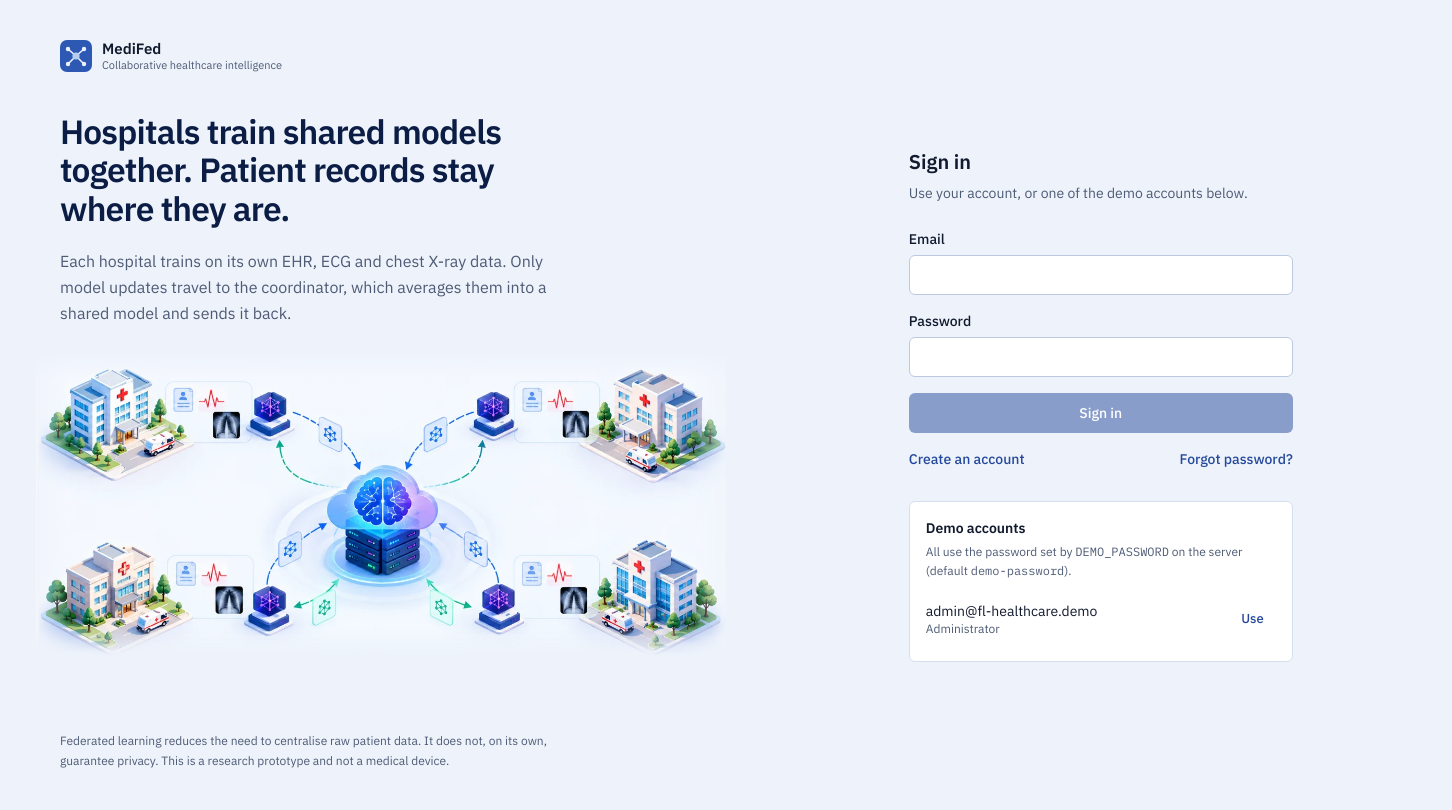
Test: creating an account › shows why the server refused, and stays on the form
Click the button "Create an account" at (967,459), box [909,449,1025,469]
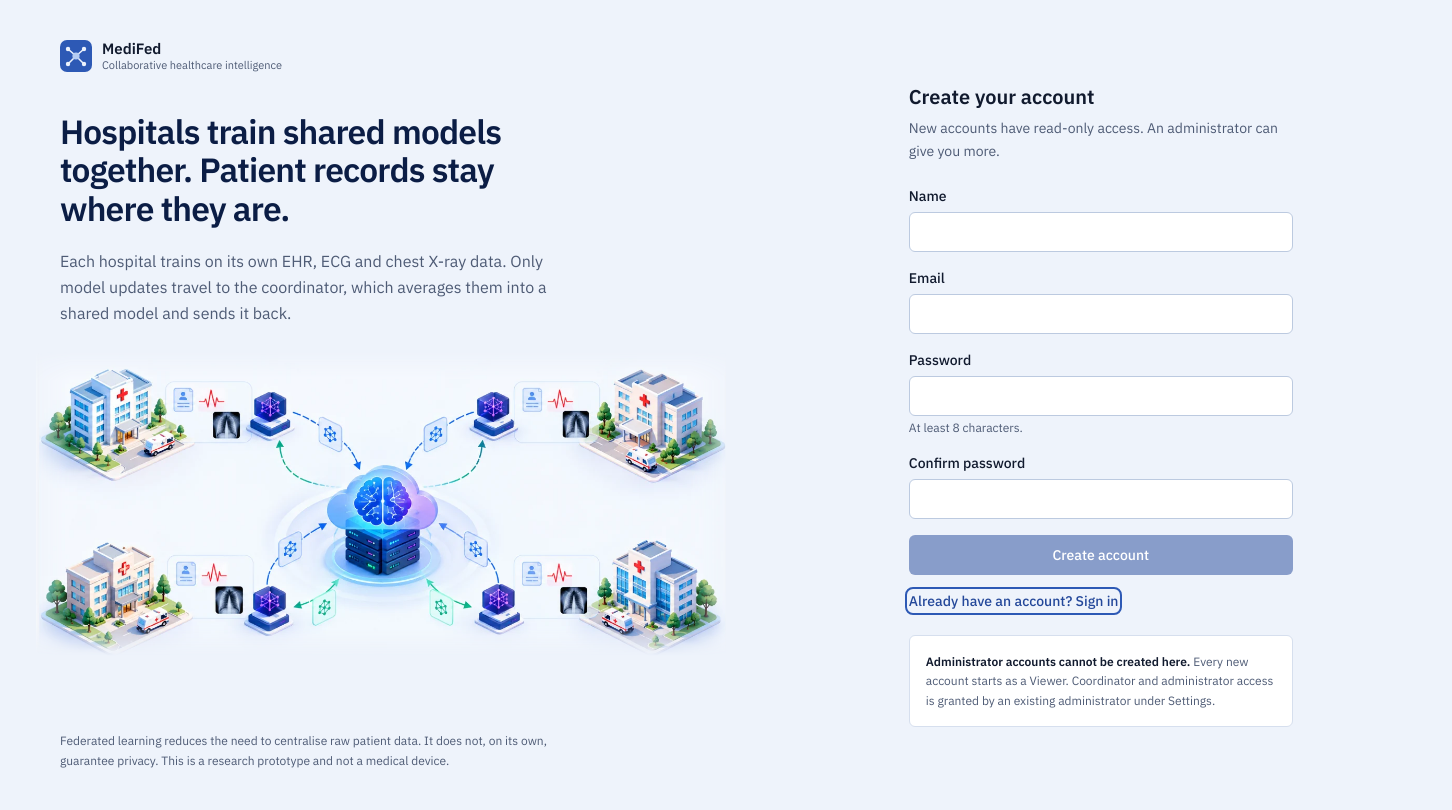
Expected: the heading "Create your account" is shown, [909,83,1095,110]
Type "Priya N" into the field labelled "Name" at (1101,232), box [909,212,1293,252]
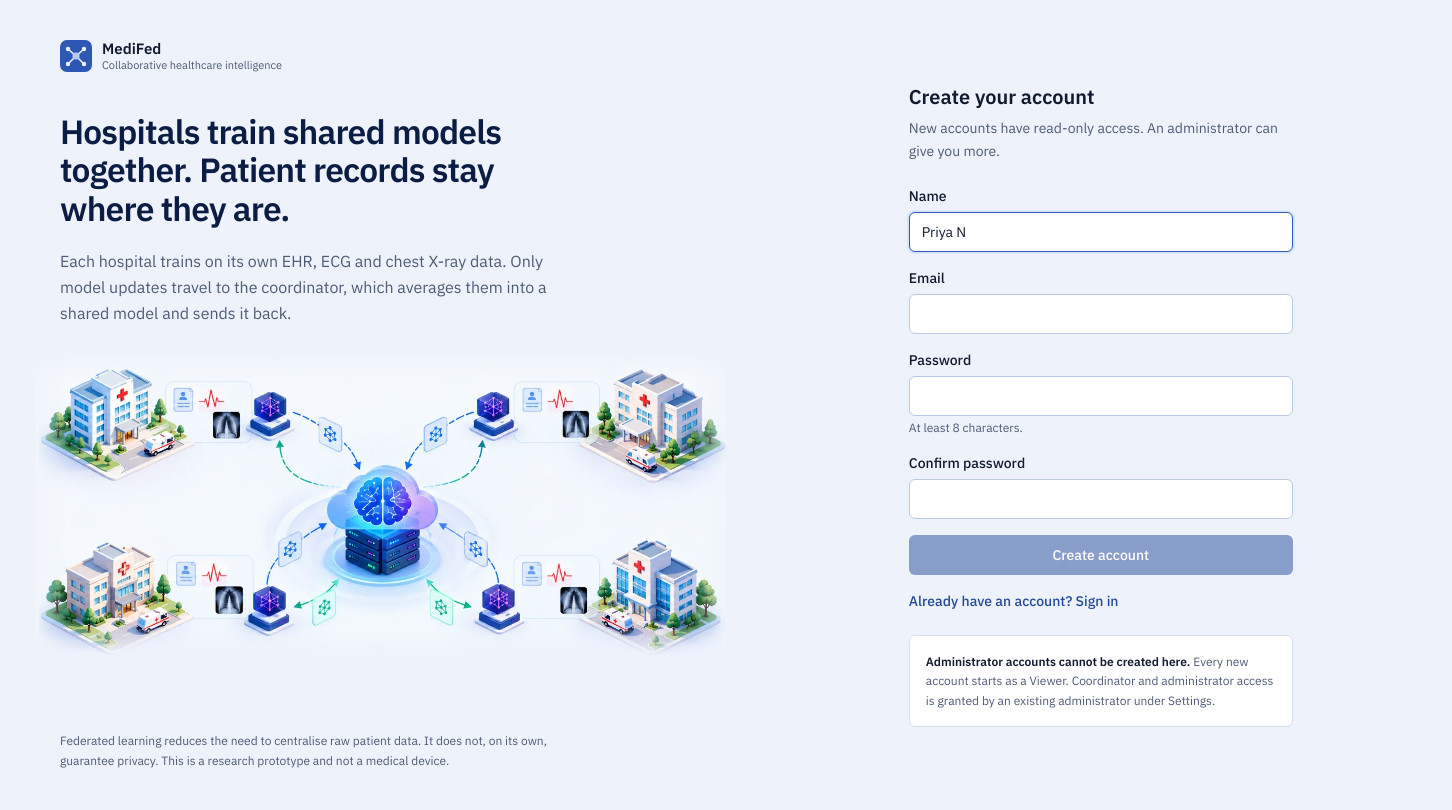
Type "priya@example.org" into the field labelled "Email" at (1101,314), box [909,294,1293,334]
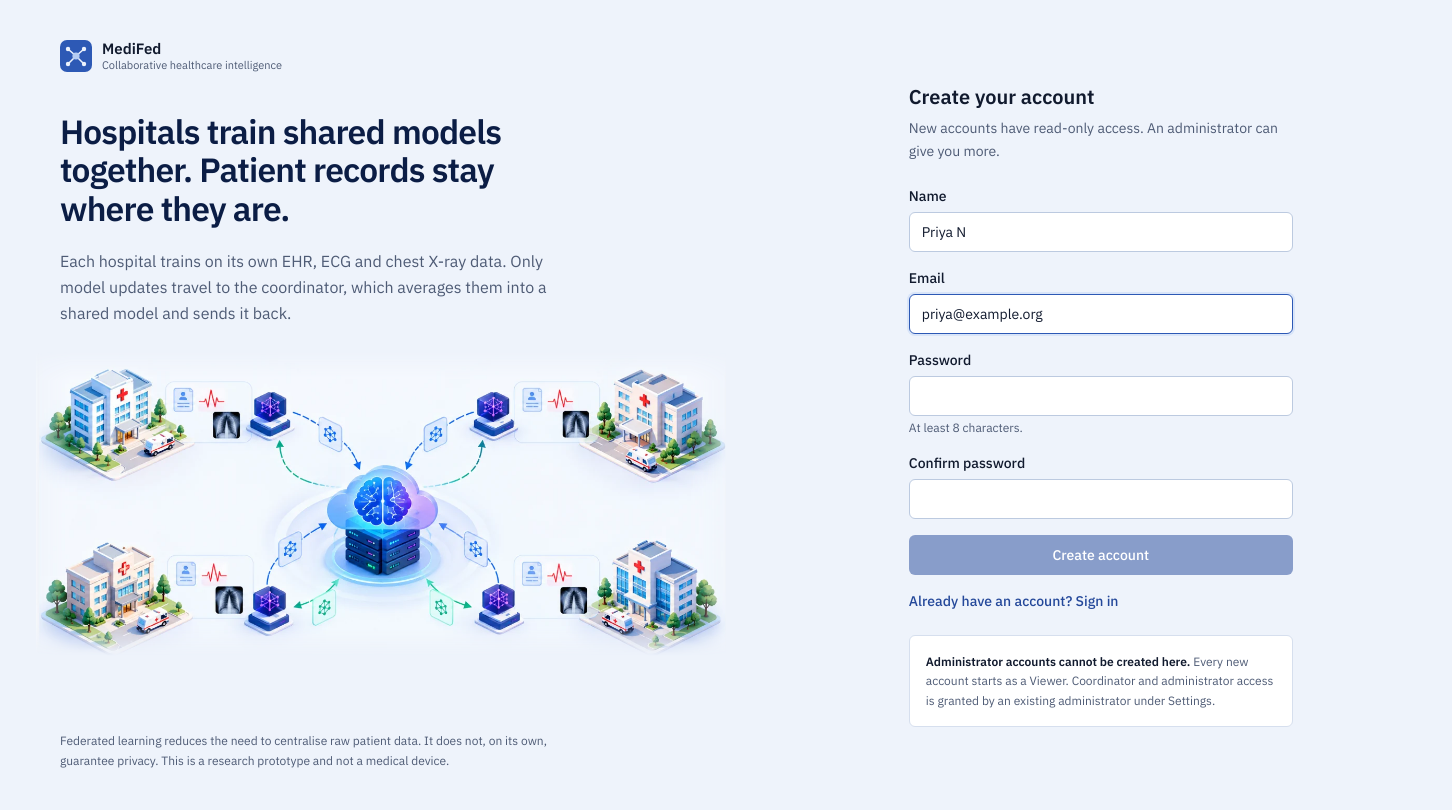
Type "correct horse 42" into the password field labelled "Password" at (1101,396), box [909,376,1293,416]
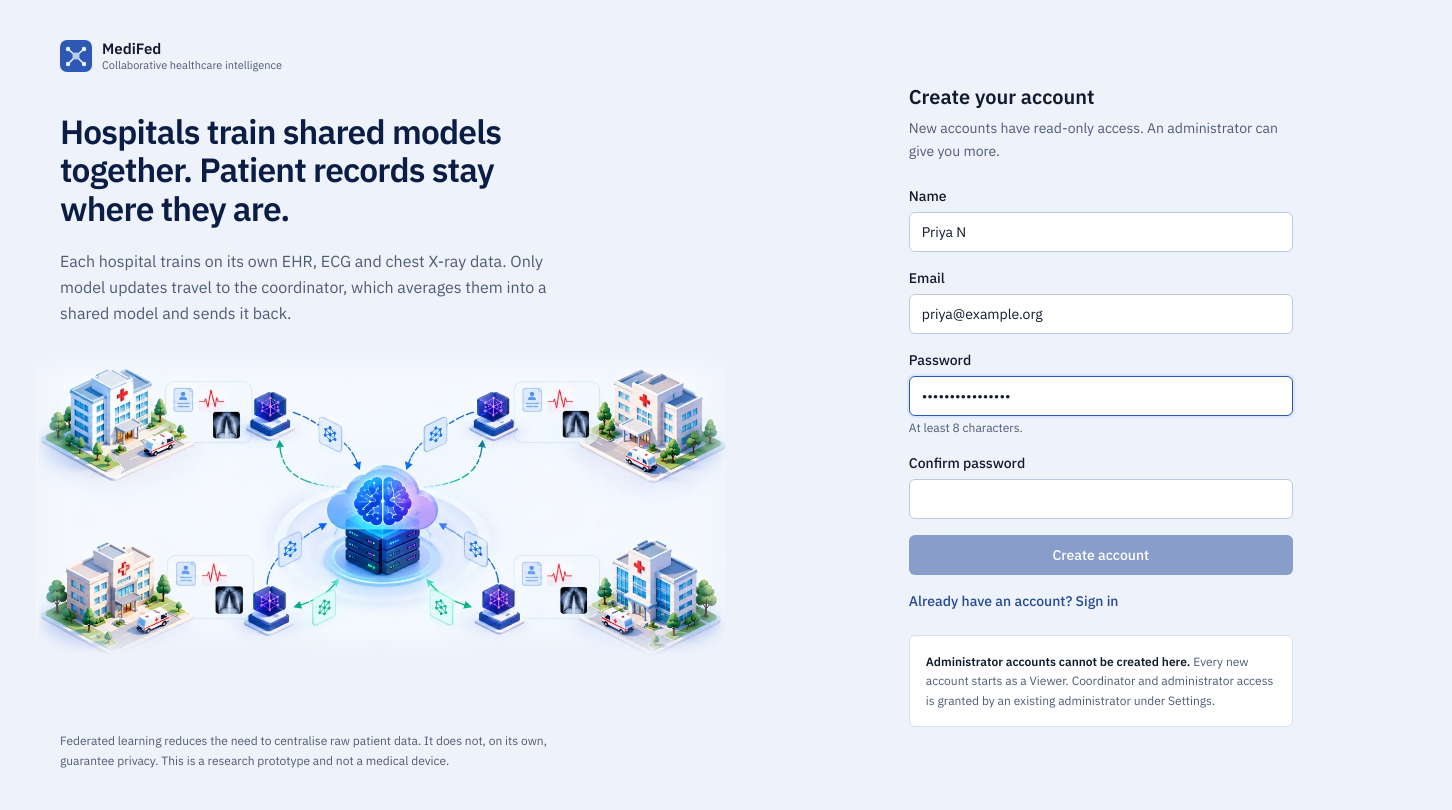
Type "correct horse 42" into the password field labelled "Confirm password" at (1101,499), box [909,479,1293,519]
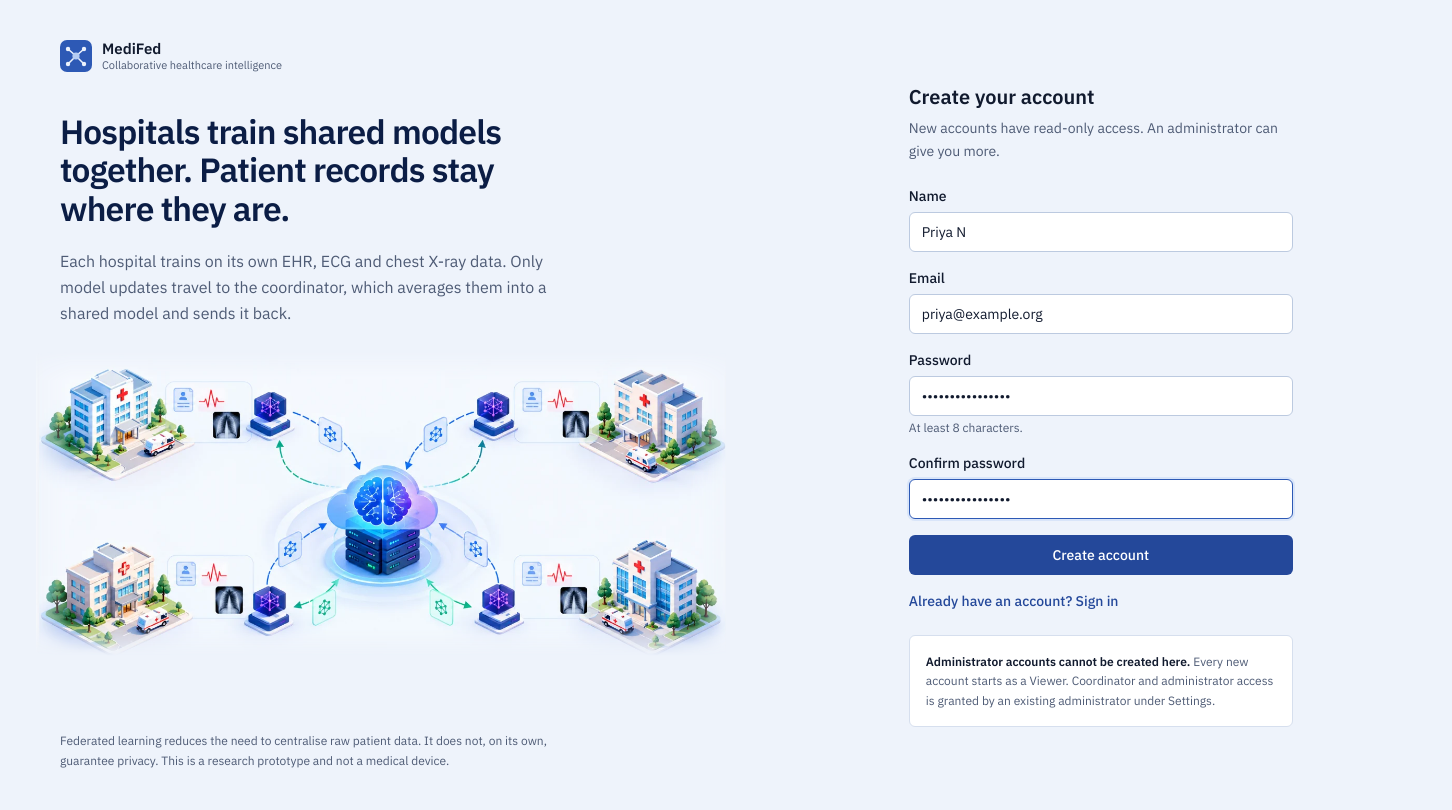
Click the button "Create account" at (1101,555), box [909,535,1293,575]
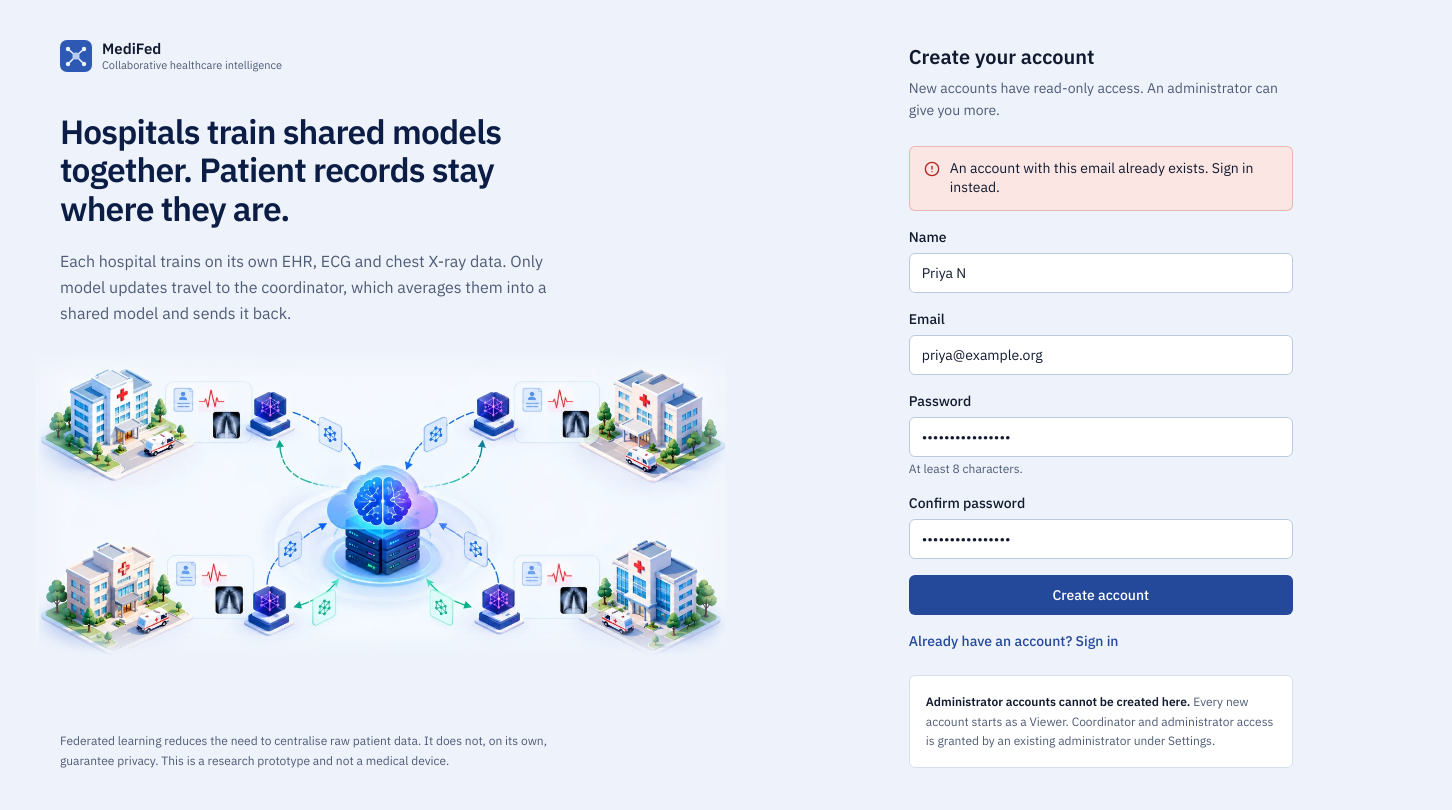
Expected: the message shows "already exists", [950,159,1254,196]
